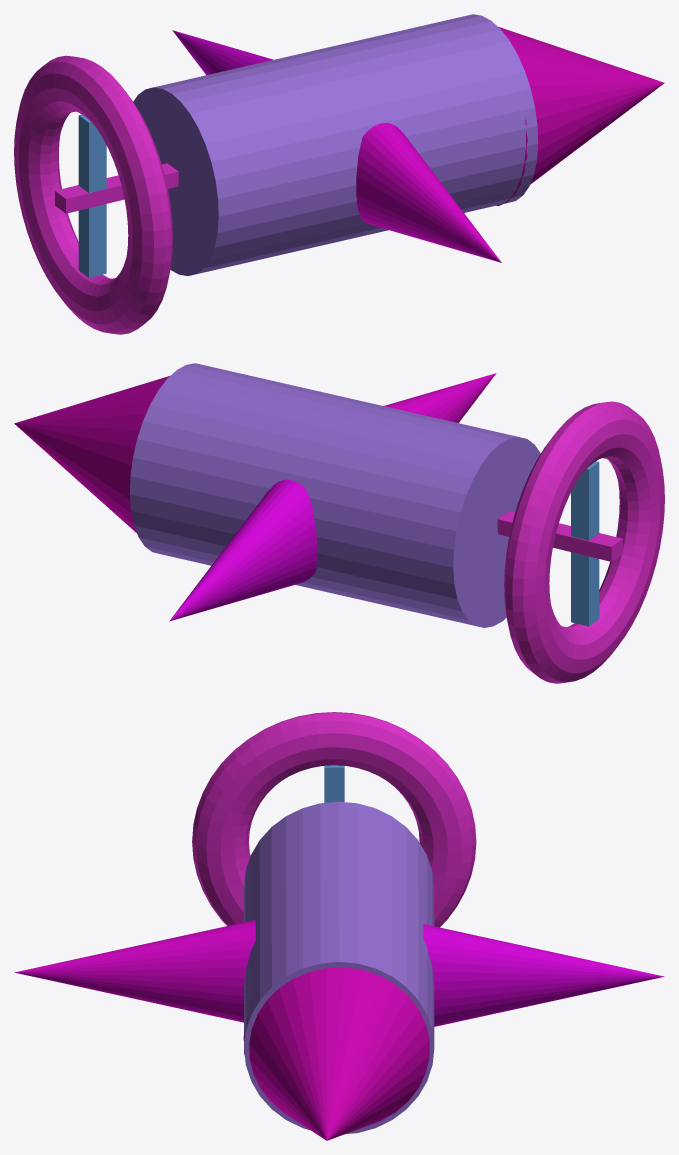
File: enemy.dae
3 views of the same model, one above another, from view 1: azimuth 30°, elevation 25°; view 2: azimuth 150°, elevation 25°; view 3: azimuth 270°, elevation 25° (orthographic).
Parts seen in each view (by area): view 1: Cylinder, Torus_001, Cone, Cone_001, Cube_001, Cone_002, Cube; view 2: Cylinder, Torus_001, Cone_002, Cone, Cube_001, Cone_001, Cube; view 3: Cylinder, Torus_001, Cone, Cone_001, Cone_002, Cube_001.
Boxes of the visible parts, x1=… form: Cylinder: x1=133, y1=14, x2=538, y2=275; Torus_001: x1=14, y1=55, x2=172, y2=334; Cone: x1=496, y1=26, x2=664, y2=205; Cone_001: x1=356, y1=123, x2=501, y2=262; Cube_001: x1=78, y1=114, x2=106, y2=277; Cone_002: x1=172, y1=30, x2=273, y2=75; Cube: x1=55, y1=163, x2=178, y2=213; Cylinder: x1=130, y1=363, x2=540, y2=627; Torus_001: x1=504, y1=401, x2=664, y2=683; Cone_002: x1=169, y1=479, x2=317, y2=621; Cone: x1=14, y1=376, x2=169, y2=532; Cube_001: x1=571, y1=461, x2=599, y2=626; Cone_001: x1=384, y1=373, x2=496, y2=422; Cube: x1=497, y1=511, x2=622, y2=561; Cylinder: x1=243, y1=801, x2=434, y2=1134; Torus_001: x1=192, y1=712, x2=476, y2=927; Cone: x1=243, y1=967, x2=429, y2=1140; Cone_001: x1=14, y1=920, x2=255, y2=1022; Cone_002: x1=423, y1=924, x2=664, y2=1026; Cube_001: x1=324, y1=765, x2=344, y2=802.
Size of the model in its own units: 6.8 by 6.41 by 2.8.
